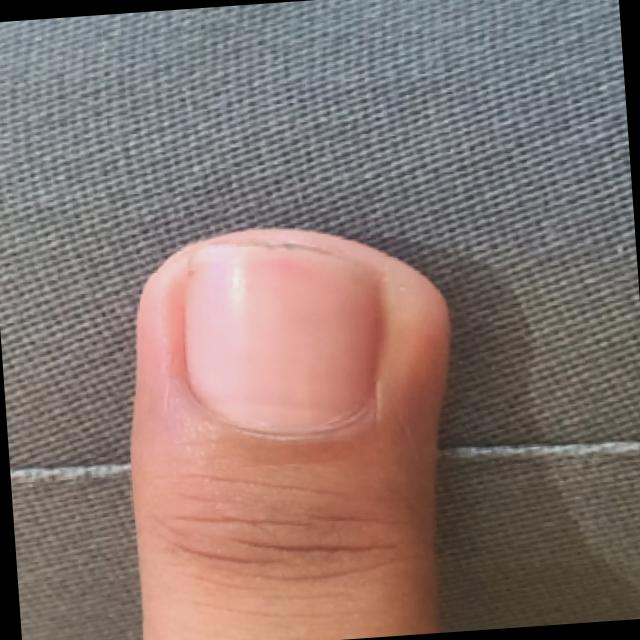Nail: (185, 240, 376, 436)
